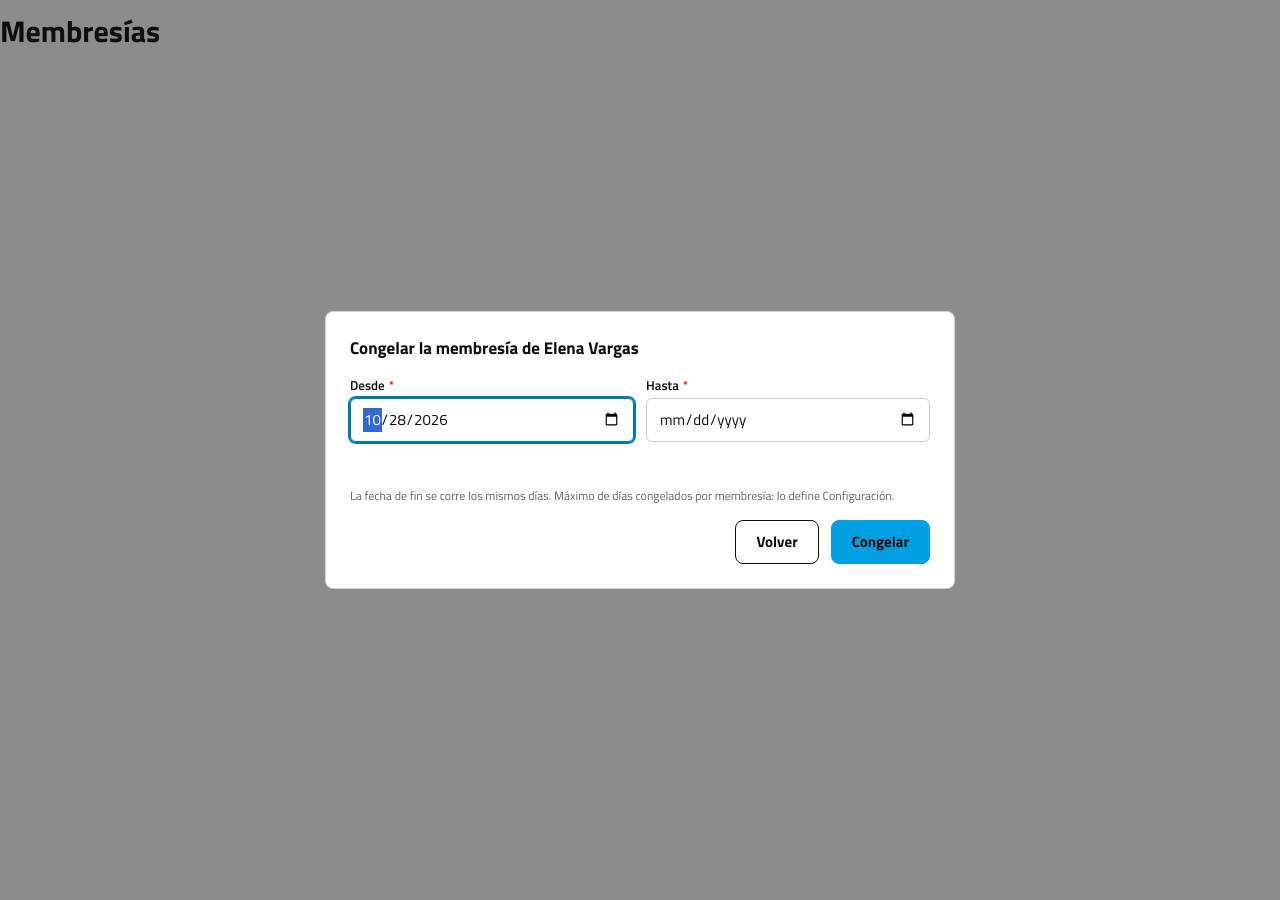
Test: FreezeModal · vista previa y validación › sin fechas pide las dos y no envía
Clear the date field labelled "Desde*": point(492, 420) [350,398,634,442]
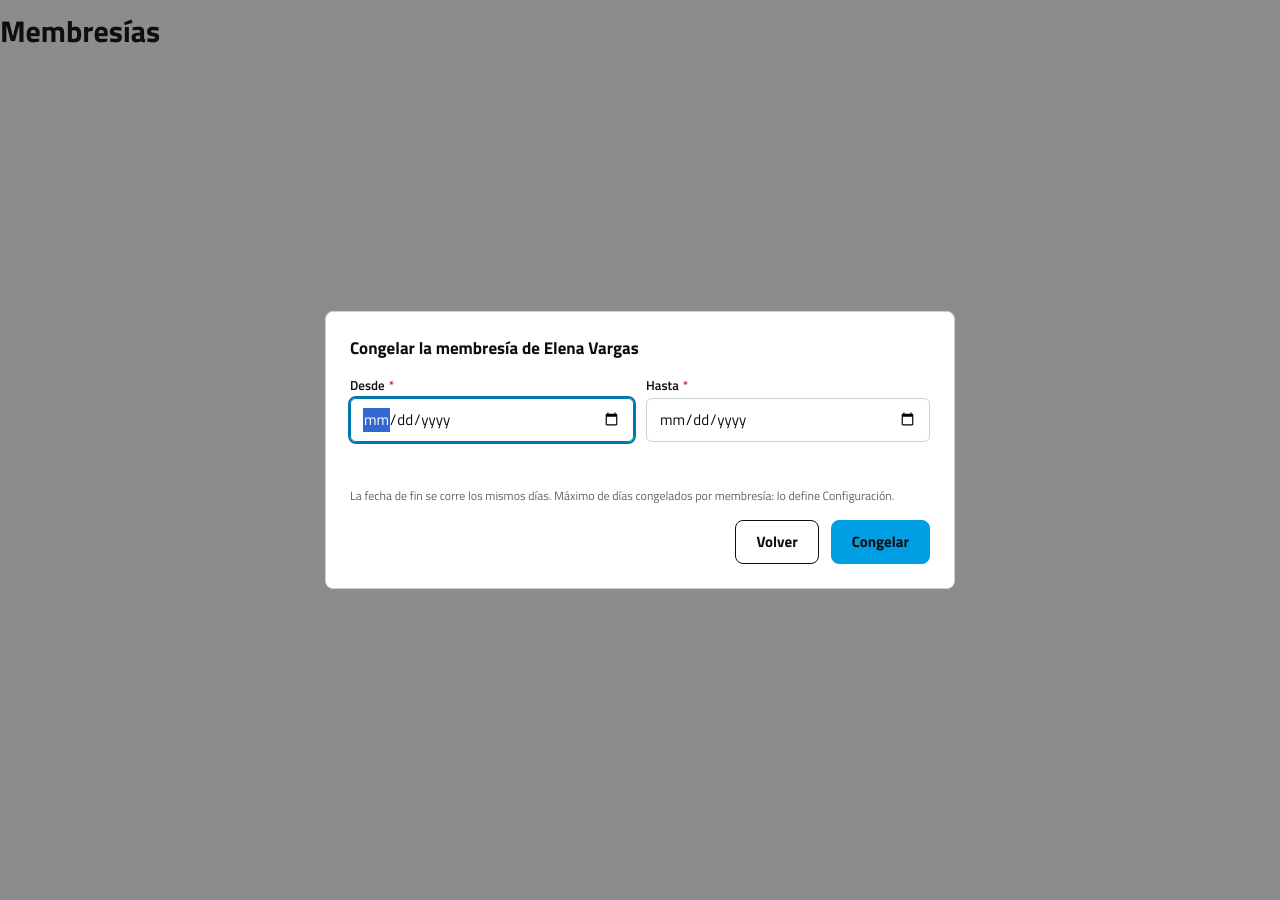
Click the button "Congelar": point(880, 542) [831,520,930,564]
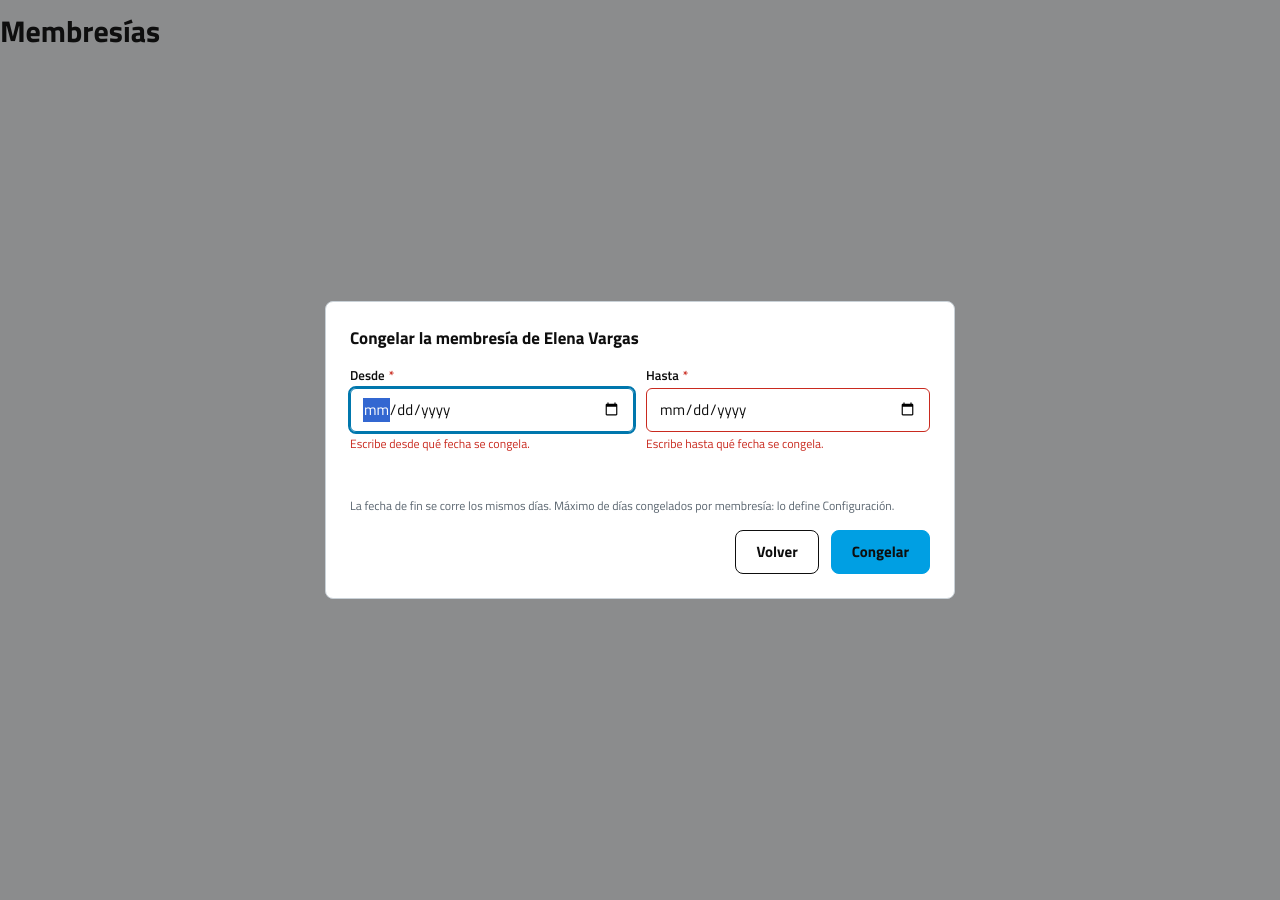
expect the text "Escribe desde qué fecha se congela." is shown: met, box [350,434,530,453]
expect the text "Escribe hasta qué fecha se congela." is shown: met, box [646,434,824,453]
